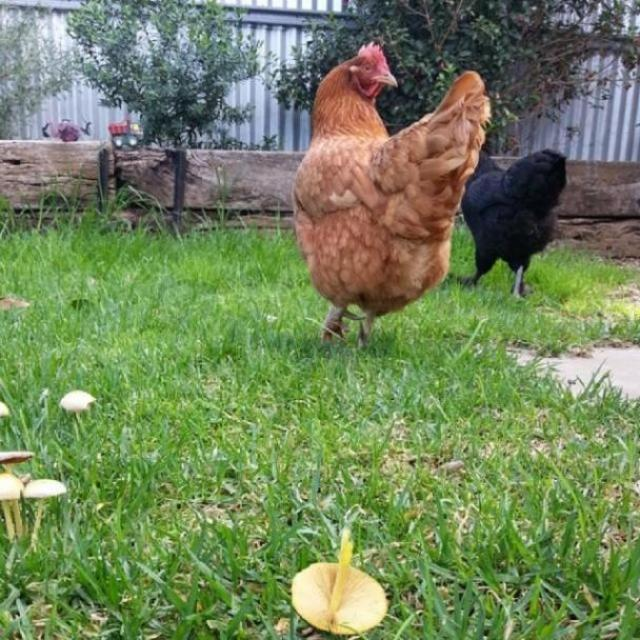Chicken: (285, 37, 489, 340), (462, 143, 569, 306)
